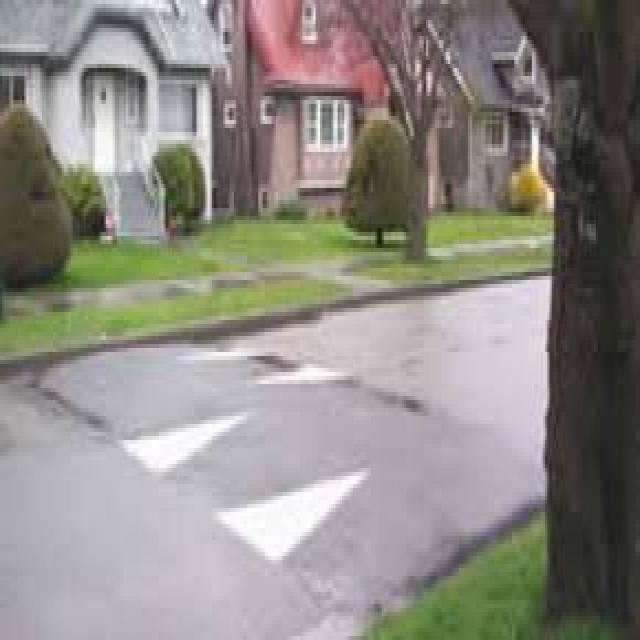speedbreaker: (47, 343, 504, 579)
